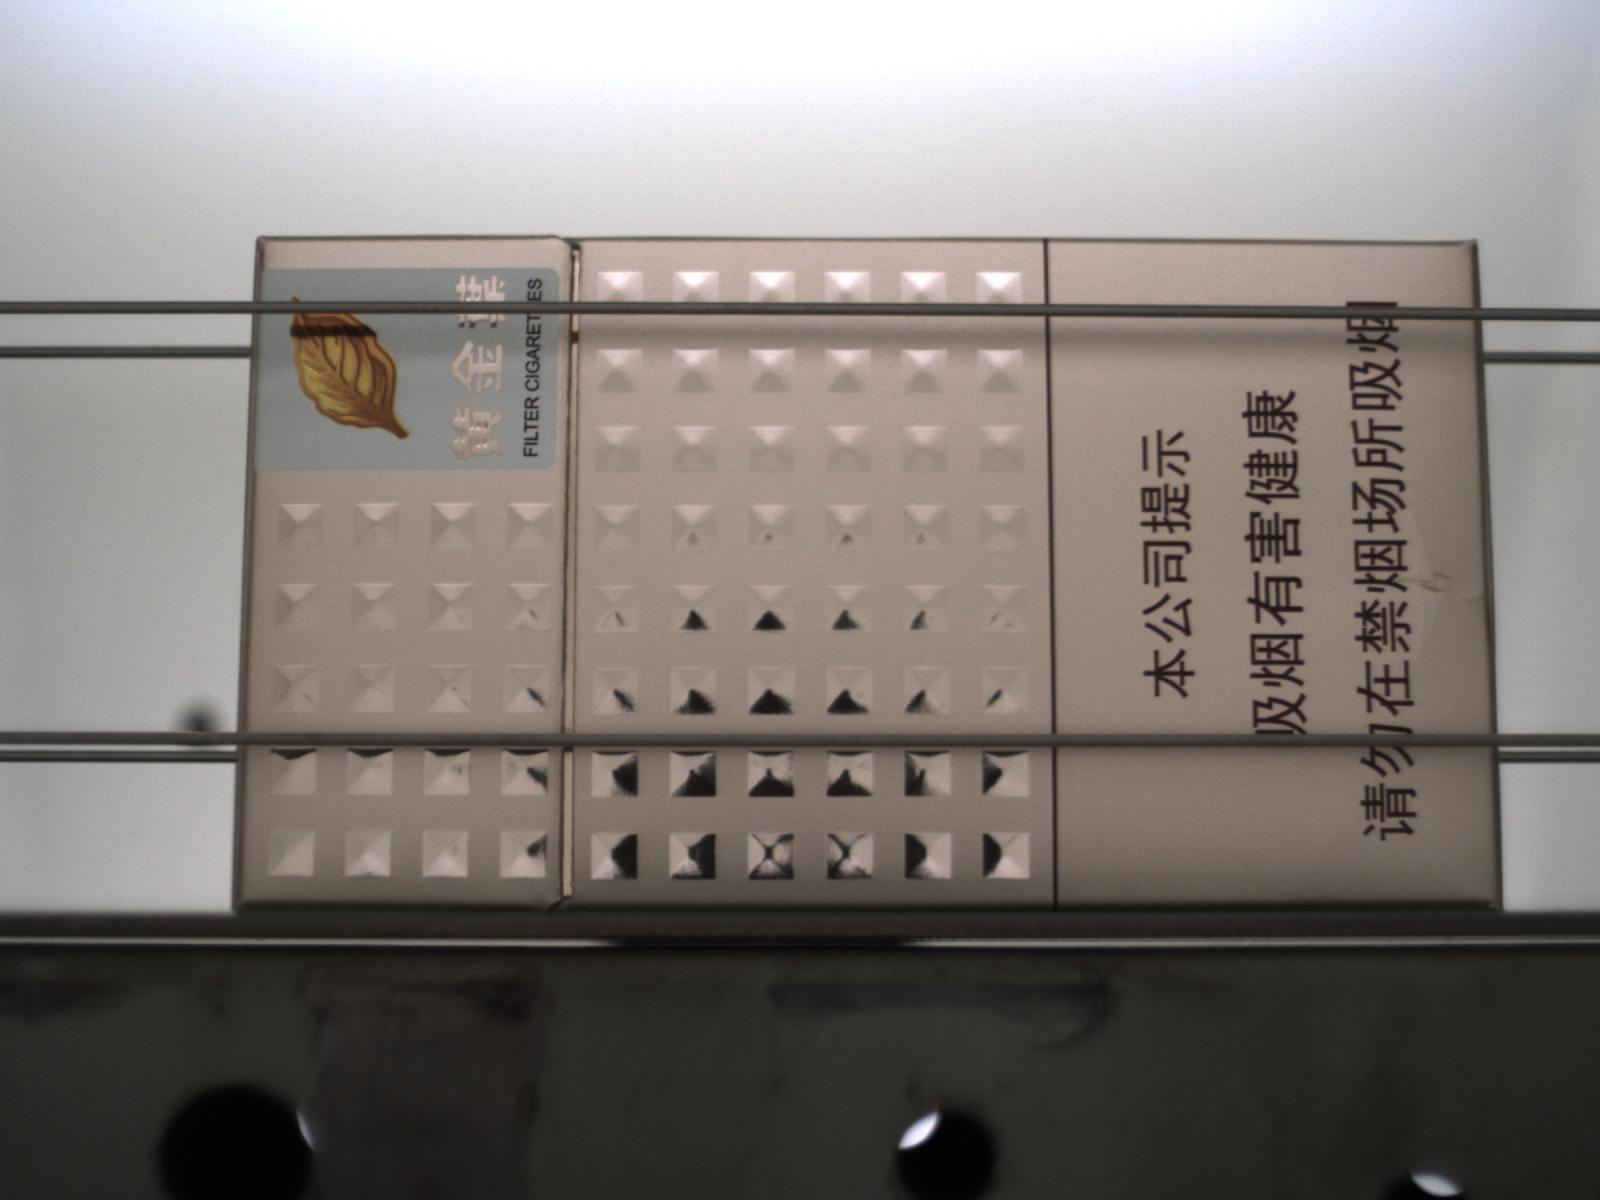crease: (1409, 500, 1488, 655)
